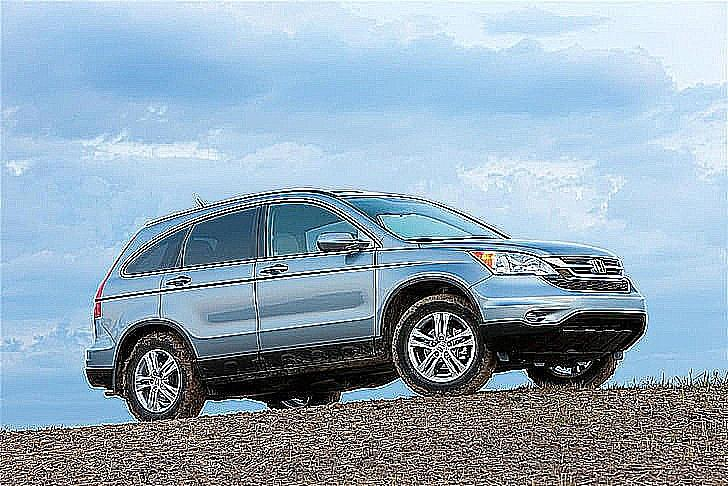Car hood: (415, 233, 621, 261)
Driver-s door - -F-R-: (256, 196, 376, 358)
Fender - -F-R-: (374, 230, 492, 337)
Fender - -R-R-: (98, 270, 163, 347)
Front bumper: (462, 277, 649, 344)
Headlight - -R-: (466, 247, 562, 280)
Passenger-s door - -R-R-: (158, 198, 258, 362)
Rear bumper: (81, 319, 123, 398)
Rear light - -R-: (89, 232, 137, 321)
Side bumper - -R-: (187, 333, 399, 392)
Side mirror - -R-: (314, 227, 366, 255)
